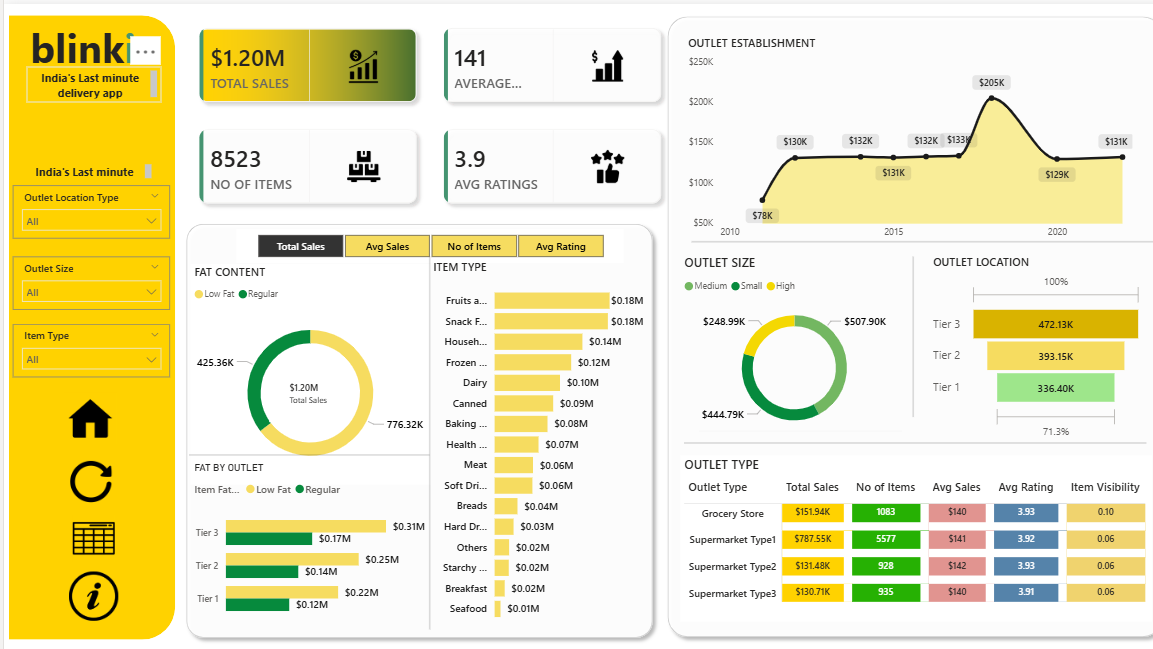

The page's visual inventory and layout, read from the dashboard file:
{"tool":"powerbi","page":{"name":"Page 1","canvas":[1400,800],"ordinal":0},"visuals":[{"type":"shape","box":[5.3,13.1,199.6,749.9],"z":0},{"type":"textbox","box":[19.7,13.1,169.4,74.9],"z":1000},{"type":"textbox","box":[27,75,162.1,43.5],"z":2000},{"type":"cardVisual","fields":{"Data":["BlinkIT Grocery Data.Total Sales","BlinkIT Grocery Data.Avg Sales","BlinkIT Grocery Data.No of Rows","BlinkIT Grocery Data.Avg Rating"]},"box":[204.9,0,612,269.2],"z":3000},{"type":"shape","box":[210.5,254.7,577.8,514.7],"z":4000},{"type":"donutChart","title":"FAT CONTENT","fields":{"Category":["BlinkIT Grocery Data.Item Fat Content"],"Y":["Sum(BlinkIT Grocery Data.Sales)"]},"box":[223.8,311.6,288.7,264.5],"z":5000},{"type":"slicer","fields":{"Values":["Parameter_metrics.Parameter_metrics"]},"box":[279.1,269.7,464.6,40.5],"z":6000},{"type":"cardVisual","fields":{"Data":["BlinkIT Grocery Data.Total Sales"]},"box":[314.1,428.6,104.3,78.9],"z":7000},{"type":"clusteredBarChart","title":"FAT BY OUTLET","fields":{"Y":["BlinkIT Grocery Data.Total Sales"],"Category":["BlinkIT Grocery Data.Outlet Location Type"],"Series":["BlinkIT Grocery Data.Item Fat Content"]},"box":[223.3,549,288.9,202.3],"z":8000},{"type":"shape","box":[222,506.9,288.9,68.3],"z":9000},{"type":"shape","box":[915.1,601.8,288.4,68.6],"z":10000},{"type":"shape","box":[833.8,478.6,244,68.4],"z":11000},{"type":"shape","box":[480.7,303.4,61.7,447.8],"z":12000},{"type":"barChart","title":"ITEM TYPE","fields":{"Y":["BlinkIT Grocery Data.Total Sales"],"Category":["BlinkIT Grocery Data.Item Type"]},"box":[510.9,306,262.7,445.2],"z":13000},{"type":"shape","box":[788,6.6,612,763],"z":14000},{"type":"lineChart","title":"OUTLET ESTABLISHMENT","fields":{"Category":["BlinkIT Grocery Data.Outlet Establishment Year"],"Y":["BlinkIT Grocery Data.Total Sales"]},"box":[816.9,36.8,543.7,253.5],"z":15000},{"type":"shape","box":[816.9,492.5,555.5,69.6],"z":16000},{"type":"shape","box":[1074.3,303.4,34.1,193.1],"z":17000},{"type":"shape","box":[824.8,250.8,566,69.6],"z":18000},{"type":"donutChart","title":"OUTLET SIZE","fields":{"Y":["BlinkIT Grocery Data.Total Sales"],"Category":["BlinkIT Grocery Data.Outlet Size"]},"box":[811.6,300.8,274.5,225.9],"z":19000},{"type":"funnel","title":"OUTLET LOCATION","fields":{"Y":["Sum(BlinkIT Grocery Data.Sales)"],"Category":["BlinkIT Grocery Data.Outlet Location Type"]},"box":[1111.1,300.8,261.4,227.2],"z":20000},{"type":"pivotTable","title":"OUTLET TYPE","fields":{"Rows":["BlinkIT Grocery Data.Outlet Type"],"Values":["BlinkIT Grocery Data.Total Sales","BlinkIT Grocery Data.No of Items","BlinkIT Grocery Data.Avg Sales","BlinkIT Grocery Data.Avg Rating","Avg(BlinkIT Grocery Data.Item Visibility)"]},"box":[811.6,541.1,566,199.6],"z":21000},{"type":"slicer","fields":{"Values":["BlinkIT Grocery Data.Outlet Location Type"]},"box":[10.5,218,189.1,64.4],"z":22000},{"type":"slicer","fields":{"Values":["BlinkIT Grocery Data.Outlet Size"]},"box":[10.5,303.4,189.1,64.4],"z":23000},{"type":"slicer","fields":{"Values":["BlinkIT Grocery Data.Item Type"]},"box":[10.5,383.5,189.1,64.4],"z":24000},{"type":"textbox","box":[19.7,187.8,162.9,30.2],"z":25000},{"type":"actionButton","box":[72.6,467.3,63.3,61.4],"z":26000},{"type":"actionButton","box":[80.1,547.3,50.3,52.1],"z":27000},{"type":"actionButton","box":[81.9,614.4,50.3,55.9],"z":28000},{"type":"actionButton","box":[78.2,681.4,59.6,59.6],"z":29000}]}

Visuals, with their boxes in screenshot pixels (x1, y1, x2, y2), scaled from the page's 1400x800 canvas onto the 1153x649 screenshot:
shape: rect(4, 11, 169, 619)
textbox: rect(16, 11, 156, 71)
textbox: rect(22, 61, 156, 96)
cardVisual - BlinkIT Grocery Data.Total Sales x BlinkIT Grocery Data.Avg Sales: rect(169, 0, 673, 218)
shape: rect(173, 207, 649, 624)
"FAT CONTENT" donutChart: rect(184, 253, 422, 467)
slicer - Parameter_metrics.Parameter_metrics: rect(230, 219, 612, 252)
cardVisual - BlinkIT Grocery Data.Total Sales: rect(259, 348, 345, 412)
"FAT BY OUTLET" clusteredBarChart: rect(184, 445, 422, 609)
shape: rect(183, 411, 421, 467)
shape: rect(754, 488, 991, 544)
shape: rect(687, 388, 888, 444)
shape: rect(396, 246, 447, 609)
"ITEM TYPE" barChart: rect(421, 248, 637, 609)
shape: rect(649, 5, 1152, 624)
"OUTLET ESTABLISHMENT" lineChart: rect(673, 30, 1121, 236)
shape: rect(673, 400, 1130, 456)
shape: rect(885, 246, 913, 403)
shape: rect(679, 203, 1145, 260)
"OUTLET SIZE" donutChart: rect(668, 244, 894, 427)
"OUTLET LOCATION" funnel: rect(915, 244, 1130, 428)
"OUTLET TYPE" pivotTable: rect(668, 439, 1135, 601)
slicer - BlinkIT Grocery Data.Outlet Location Type: rect(9, 177, 164, 229)
slicer - BlinkIT Grocery Data.Outlet Size: rect(9, 246, 164, 298)
slicer - BlinkIT Grocery Data.Item Type: rect(9, 311, 164, 363)
textbox: rect(16, 152, 150, 177)
actionButton: rect(60, 379, 112, 429)
actionButton: rect(66, 444, 107, 486)
actionButton: rect(67, 498, 109, 544)
actionButton: rect(64, 553, 113, 601)
